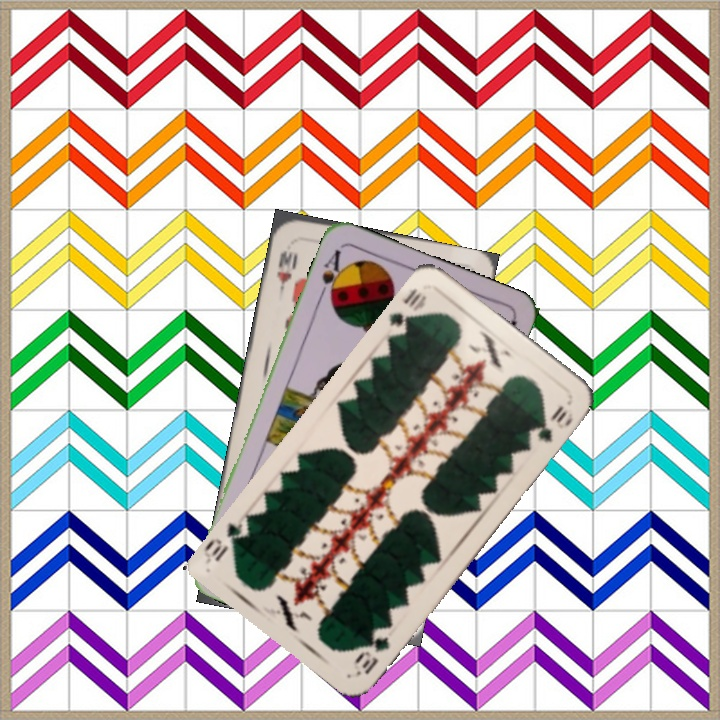G10: (385, 283, 430, 332), (352, 631, 392, 677)
H10: (272, 246, 301, 296)
SA: (315, 245, 348, 304)
